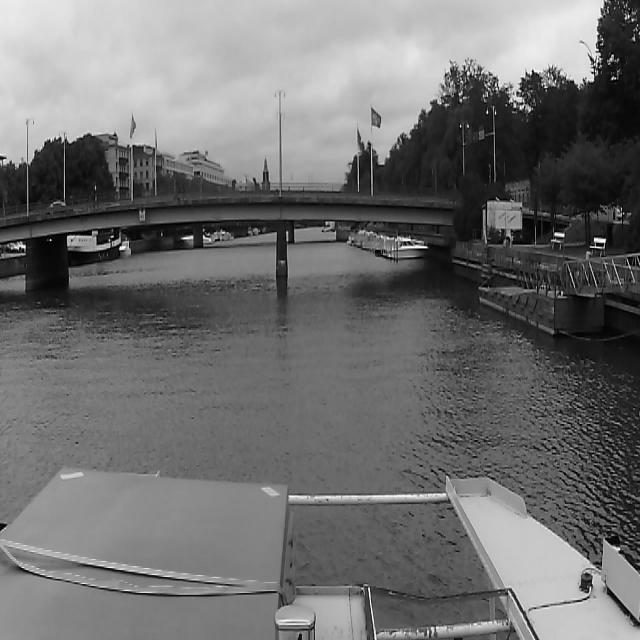ship: (389, 238, 429, 260)
